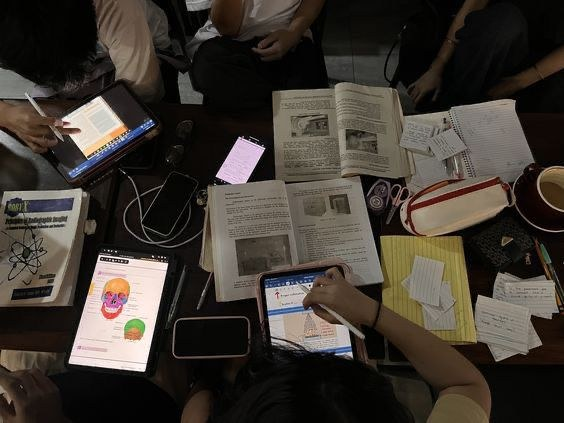cell phone: (141, 170, 199, 237), (171, 315, 251, 360), (214, 134, 268, 185)
